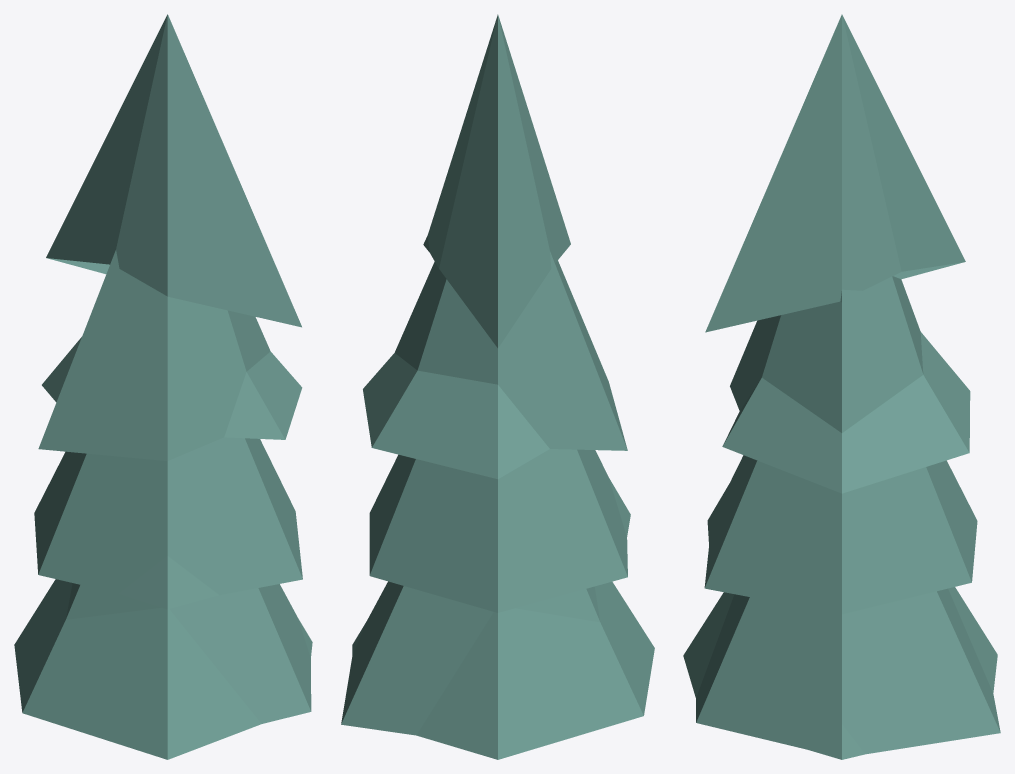
File: Pine_003.fbx
3 views of the same model, side by side, from view 1: azimuth 30°, elevation 25°; view 2: azimuth 150°, elevation 25°; view 3: azimuth 270°, elevation 25° (orthographic).
Visible parts, largest first — view 1: Pine.003; view 2: Pine.003; view 3: Pine.003.
Boxes of the visible parts, <box> form: Pine.003: <box>14,14,312,759</box>; Pine.003: <box>341,14,654,759</box>; Pine.003: <box>683,14,1000,759</box>.
Bounding box in the file's own units: 4.57 × 10.79 × 4.26.
